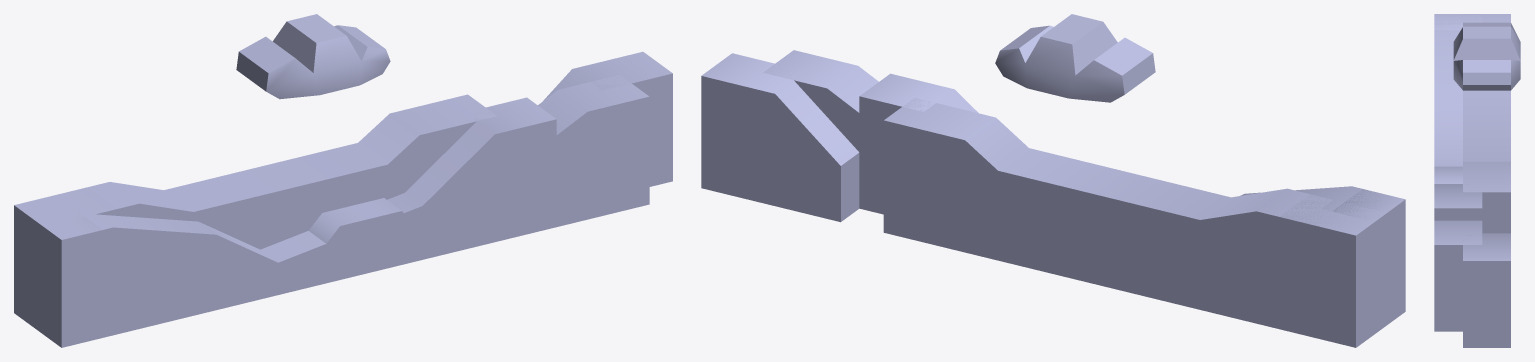
File: Sections.fbx
3 renders of one model, left to right at view 1: azimuth 30°, elevation 25°; view 2: azimuth 150°, elevation 25°; view 3: azimuth 270°, elevation 25°, orthographic. The views are drawn at different scales.
Parts seen in each view (by area): view 1: SlopeDown, F1, I3, I1, F2, I2, C2, C1; view 2: F1, C2, C1, F2, I3, SlopeDown, I1; view 3: F1, SlopeDown, C2, F2, I3, I1, I2, C1.
Part boxes in pixels (left/top/right/bottom): SlopeDown: left=32, top=97, right=556, bottom=347; F1: left=16, top=94, right=497, bottom=249; I3: left=464, top=75, right=649, bottom=249; I1: left=32, top=209, right=170, bottom=347; F2: left=236, top=14, right=390, bottom=99; I2: left=308, top=198, right=432, bottom=287; C2: left=543, top=51, right=672, bottom=186; C1: left=14, top=187, right=267, bottom=333; F1: left=883, top=98, right=1385, bottom=346; C2: left=701, top=53, right=859, bottom=222; C1: left=1127, top=194, right=1386, bottom=347; F2: left=995, top=14, right=1155, bottom=102; I3: left=763, top=50, right=883, bottom=214; SlopeDown: left=859, top=73, right=1403, bottom=220; I1: left=1332, top=189, right=1405, bottom=333; F1: left=1463, top=14, right=1510, bottom=233; SlopeDown: left=1434, top=14, right=1482, bottom=220; C2: left=1463, top=233, right=1510, bottom=347; F2: left=1453, top=22, right=1520, bottom=90; I3: left=1434, top=220, right=1482, bottom=331; I1: left=1434, top=14, right=1482, bottom=30; I2: left=1434, top=166, right=1462, bottom=183; C1: left=1463, top=14, right=1510, bottom=22.
Size of the model in its own units: 61 by 20.86 by 9.
